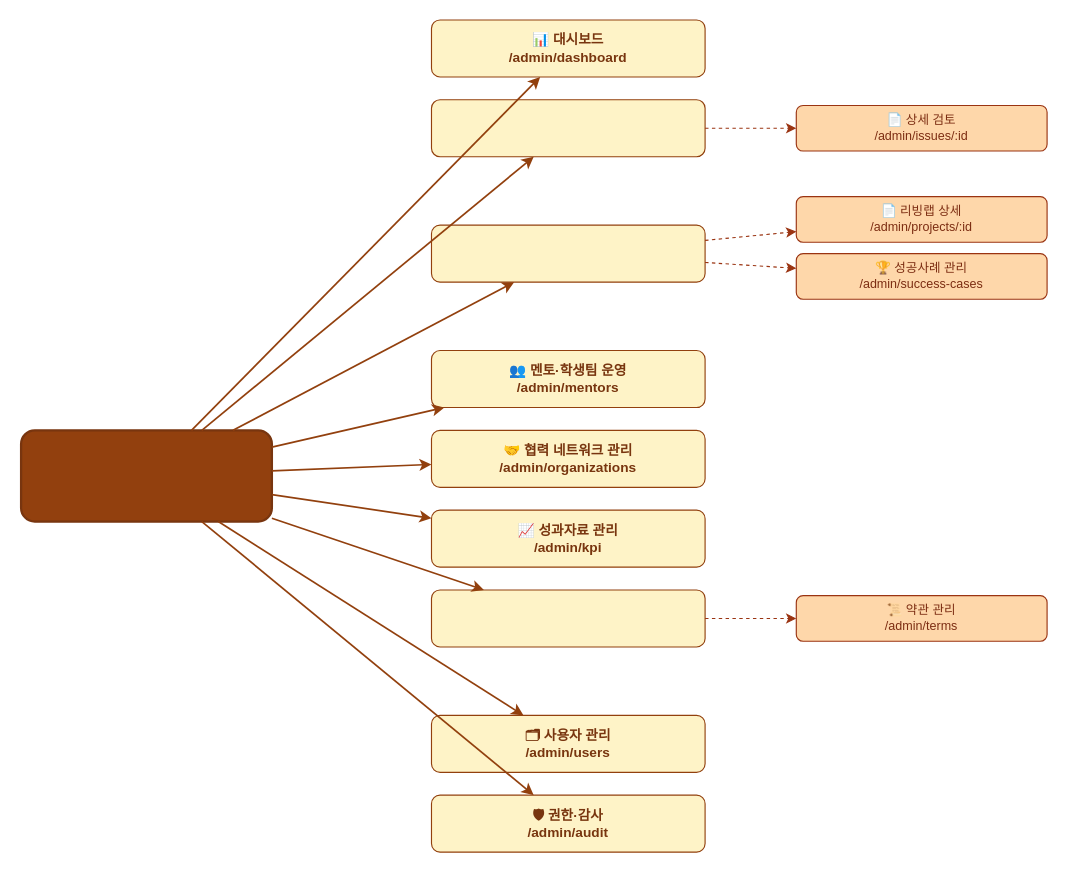
The diagram is 1067 pixels wide and 872 high, and some of its shapes have lost their labels. The shapes that lost their labels are listed below. From the top down, each one's centre as x and y in pixels, then its label:
At pixel 567 128: "🔎 지역문제 게이트키핑 /admin/issues".
At pixel 567 253: "🧪 리빙랩 관리 /admin/projects".
At pixel 145 475: "⚙️ 관리자 영역 11개 화면".
At pixel 567 618: "📝 콘텐츠 관리 /admin/cms-banners".
